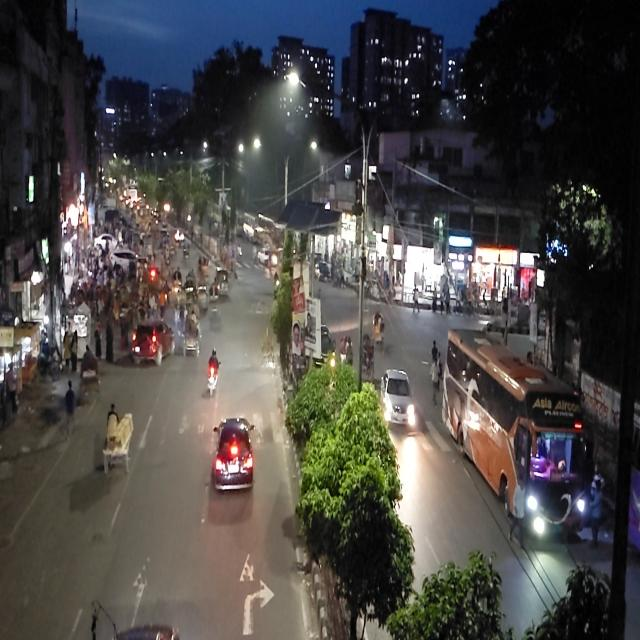black: (212, 413, 254, 494), (322, 326, 336, 362)
white: (382, 368, 418, 426)
